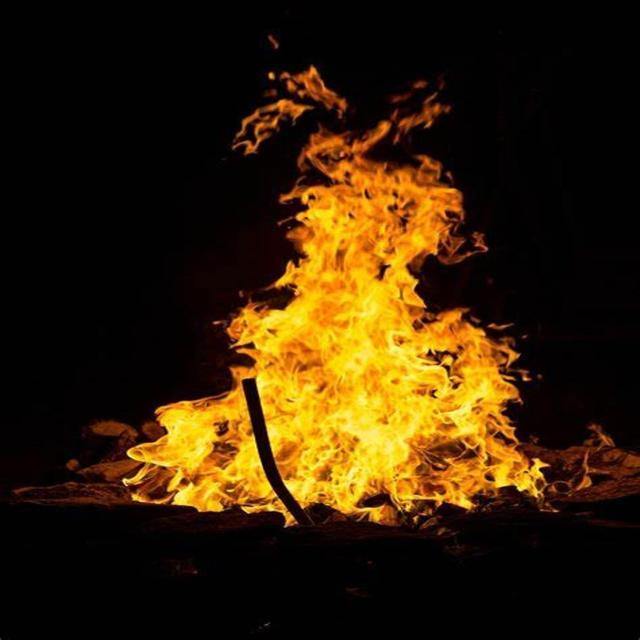Fire: (240, 6, 488, 536), (144, 378, 214, 506)
